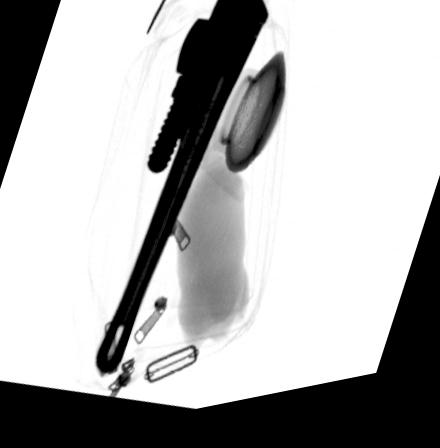Wrench: (95, 0, 270, 379)
